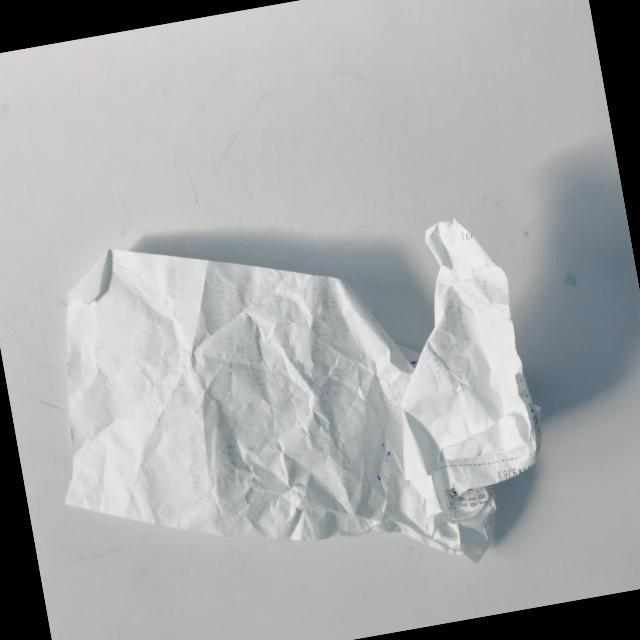paper: (19, 178, 558, 628)
